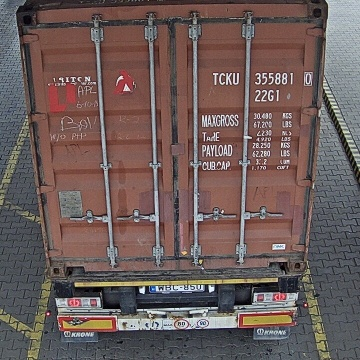serial_id: (213, 72, 312, 84)
